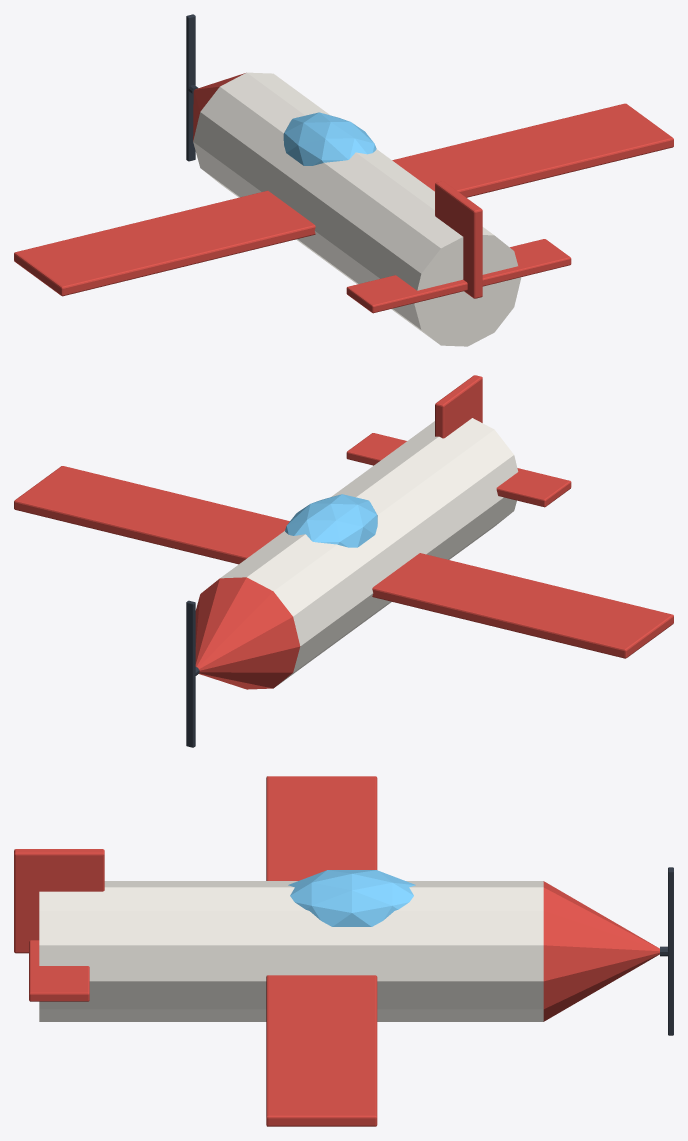
The picture shows the model from 3 angles, top to bottom: view 1: azimuth 30°, elevation 25°; view 2: azimuth 150°, elevation 25°; view 3: azimuth 270°, elevation 25°; orthographic projection. The views are drawn at different scales.
Visible parts, largest first — view 1: Plane; view 2: Plane; view 3: Plane.
Part boxes in pixels (x1,y1,x2,y2): Plane: (14,14,673,346); Plane: (14,375,673,747); Plane: (14,776,673,1126).
Bounding box in the file's own units: 8 × 2 × 6.54.
